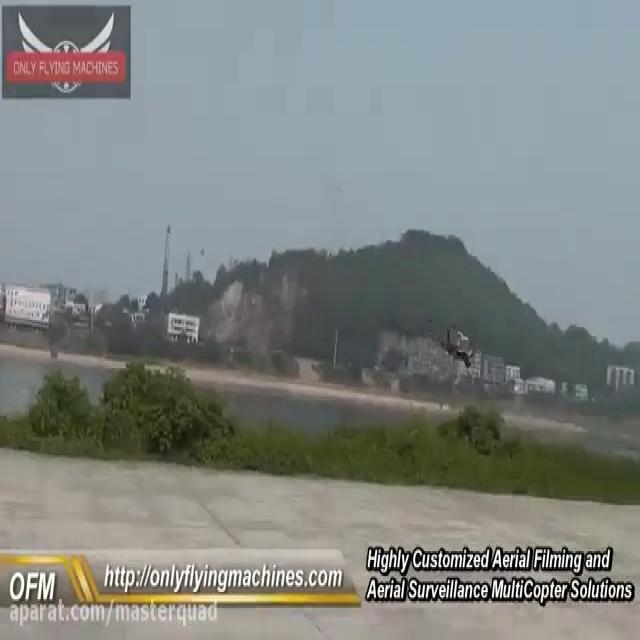drone: (438, 322, 475, 368)
